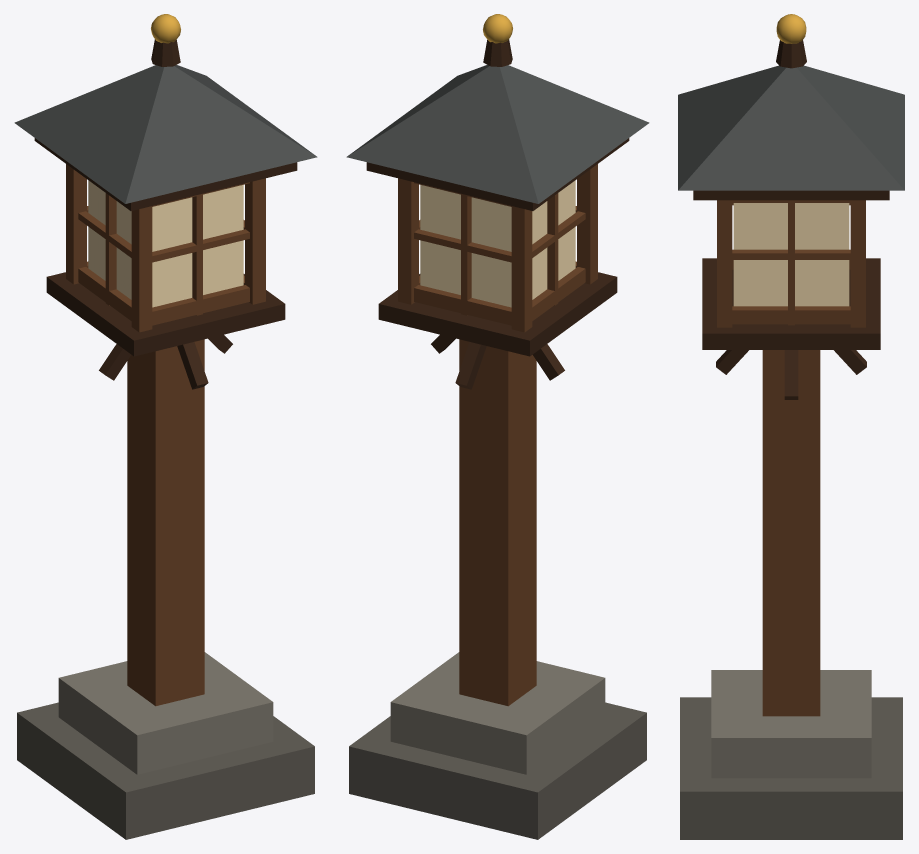
File: temple-lantern.glb
3 renders of one model, left to right at view 1: azimuth 30°, elevation 25°; view 2: azimuth 150°, elevation 25°; view 3: azimuth 270°, elevation 25°, orthographic. The views are drawn at different scales.
Parts seen in each view (by area): view 1: wood2, roofTile12, stoneDark0, stone1, glowPaper5, woodDark3, wood6_4, wood6_1, wood6_3, woodDark11, wood7_1, wood7_4 (+8 smaller); view 2: wood2, roofTile12, stoneDark0, stone1, glowPaper5, woodDark3, wood6_3, wood6_2, wood6_4, woodDark11, wood7_3, wood10_3 (+8 smaller); view 3: roofTile12, wood2, stoneDark0, stone1, glowPaper5, woodDark3, wood7_2, woodDark11, wood6_1, wood6_2, wood9_2, wood10_2 (+5 smaller).
Part boxes in pixels (<box>): wood2: <box>127,339,204,706</box>; roofTile12: <box>14,65,317,203</box>; stoneDark0: <box>17,702,314,839</box>; stone1: <box>58,652,273,774</box>; glowPaper5: <box>88,180,243,307</box>; woodDark3: <box>46,272,285,356</box>; wood6_4: <box>131,206,152,332</box>; wood6_1: <box>245,178,265,304</box>; wood6_3: <box>66,164,86,284</box>; woodDark11: <box>34,138,297,210</box>; wood7_1: <box>152,285,249,325</box>; wood7_4: <box>78,267,131,320</box>; wood2: <box>459,339,536,706</box>; roofTile12: <box>346,65,649,203</box>; stoneDark0: <box>349,702,646,839</box>; stone1: <box>390,652,605,774</box>; glowPaper5: <box>420,180,575,307</box>; woodDark3: <box>378,272,617,356</box>; wood6_3: <box>511,206,532,332</box>; wood6_2: <box>398,178,418,304</box>; wood6_4: <box>577,164,597,284</box>; woodDark11: <box>366,138,629,210</box>; wood7_3: <box>414,285,511,325</box>; wood10_3: <box>461,194,471,315</box>; roofTile12: <box>678,65,904,190</box>; wood2: <box>762,350,820,716</box>; stoneDark0: <box>680,697,902,839</box>; stone1: <box>711,670,871,778</box>; glowPaper5: <box>733,203,849,306</box>; woodDark3: <box>702,258,880,349</box>; wood7_2: <box>732,306,850,324</box>; woodDark11: <box>693,190,889,200</box>; wood6_1: <box>717,200,732,327</box>; wood6_2: <box>850,200,865,327</box>; wood9_2: <box>732,249,850,259</box>; wood10_2: <box>788,200,794,325</box>.
Size of the model in its own units: 0.5091 by 1.92 by 0.5091.
